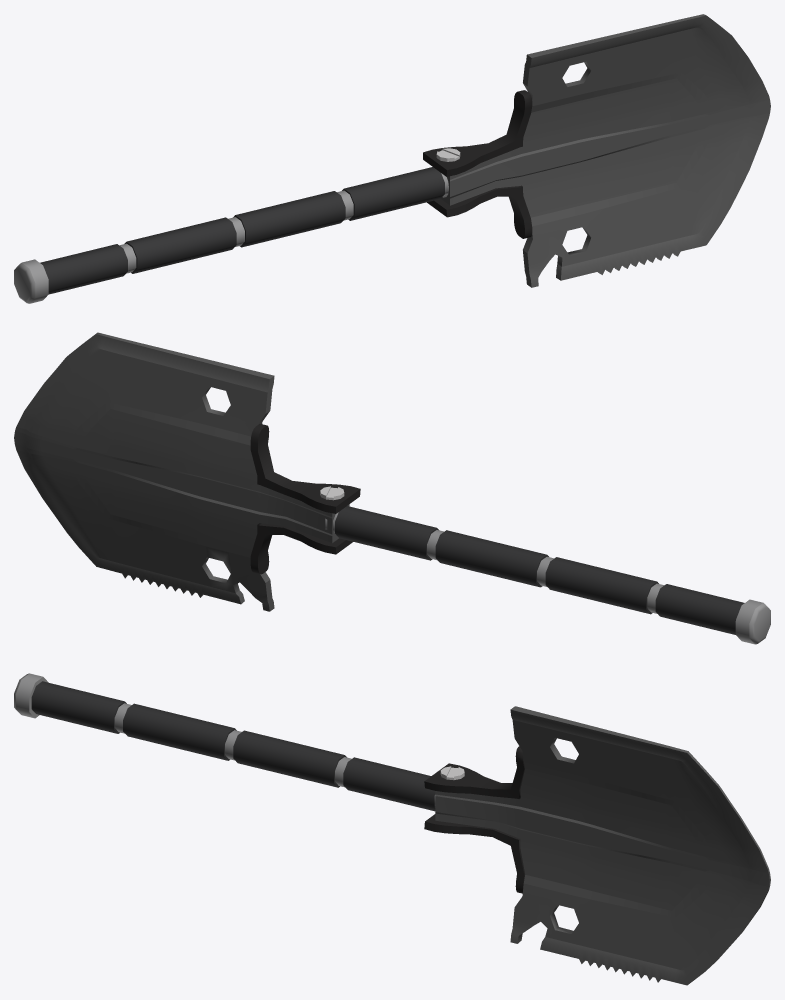
The model's file is Tactic_Shovel_Mesh.fbx.
3 renders of one model, top to bottom at view 1: azimuth 30°, elevation 25°; view 2: azimuth 150°, elevation 25°; view 3: azimuth 330°, elevation 25°, orthographic.
Parts seen in each view (by area): view 1: Tactic_Shovel; view 2: Tactic_Shovel; view 3: Tactic_Shovel.
Boxes of the visible parts, x1,y1,x2,y2 form: Tactic_Shovel: [14, 14, 770, 303]; Tactic_Shovel: [14, 332, 770, 644]; Tactic_Shovel: [14, 673, 770, 985].
Bounding box in the file's own units: 0.7196 × 0.2166 × 0.042.
